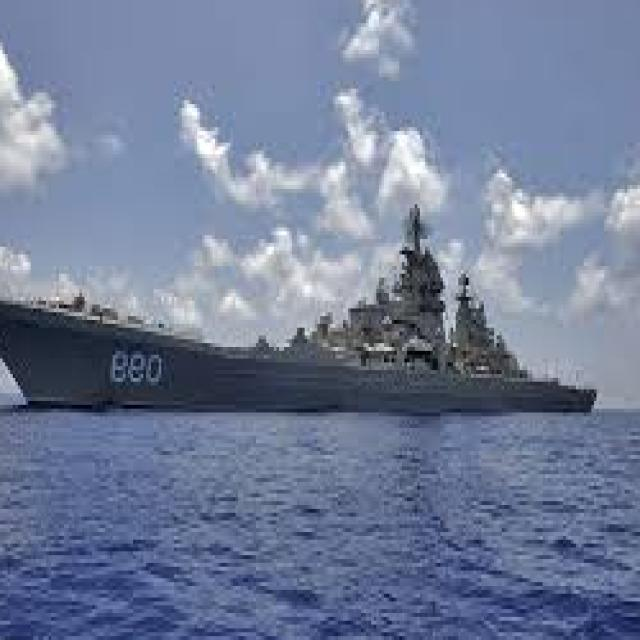navalvessels: (0, 204, 615, 424)
